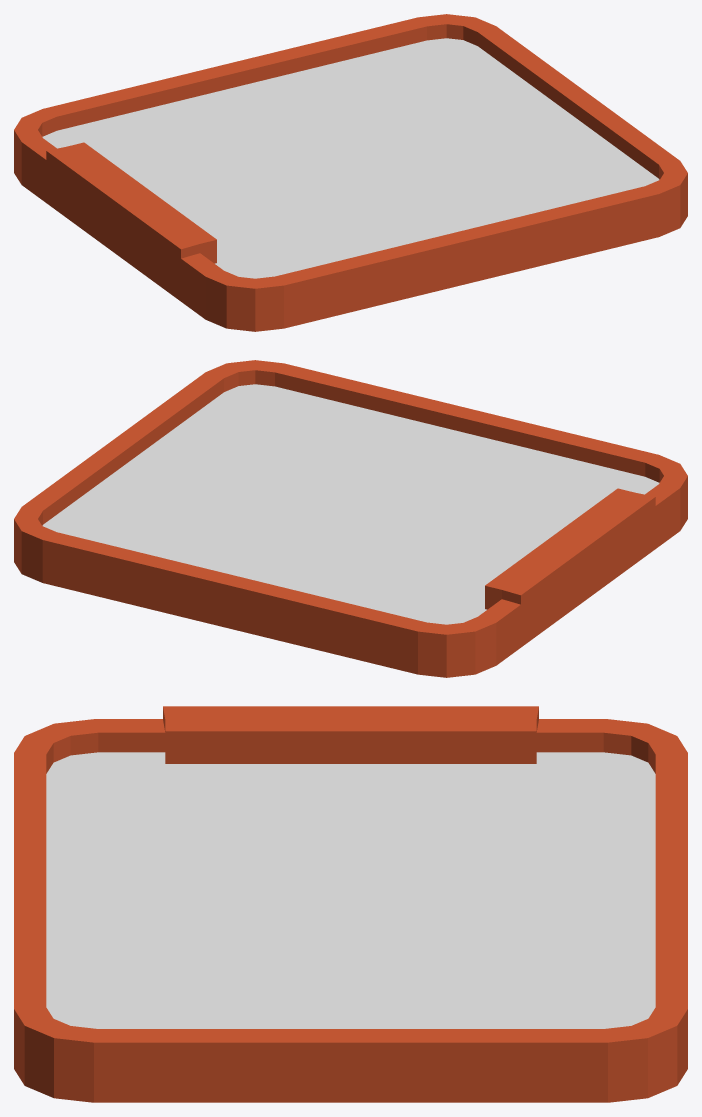
The model's file is notes1.fbx.
3 renders of one model, top to bottom at view 1: azimuth 30°, elevation 25°; view 2: azimuth 150°, elevation 25°; view 3: azimuth 270°, elevation 25°, orthographic. The views are drawn at different scales.
Parts seen in each view (by area): view 1: Notes; view 2: Notes; view 3: Notes.
Boxes of the visible parts, x1,y1,x2,y2 form: Notes: [14, 14, 687, 331]; Notes: [14, 360, 687, 677]; Notes: [14, 706, 687, 1102].
Size of the model in its own units: 317 by 33.47 by 280.
